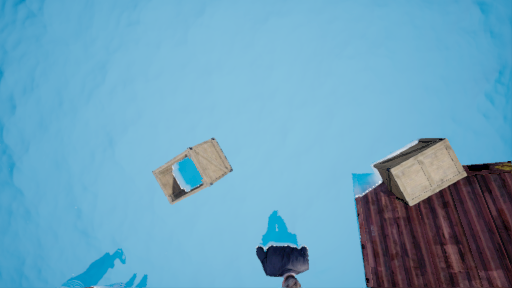person: (259, 211, 315, 288)
